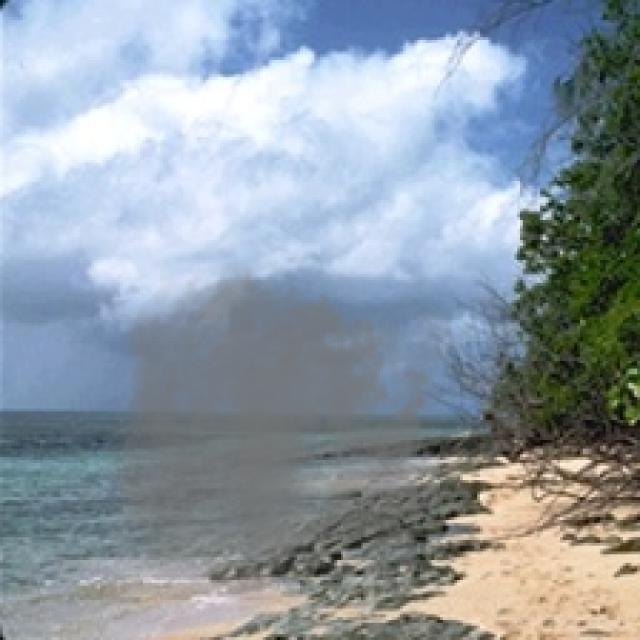smoke: (106, 251, 451, 600)
